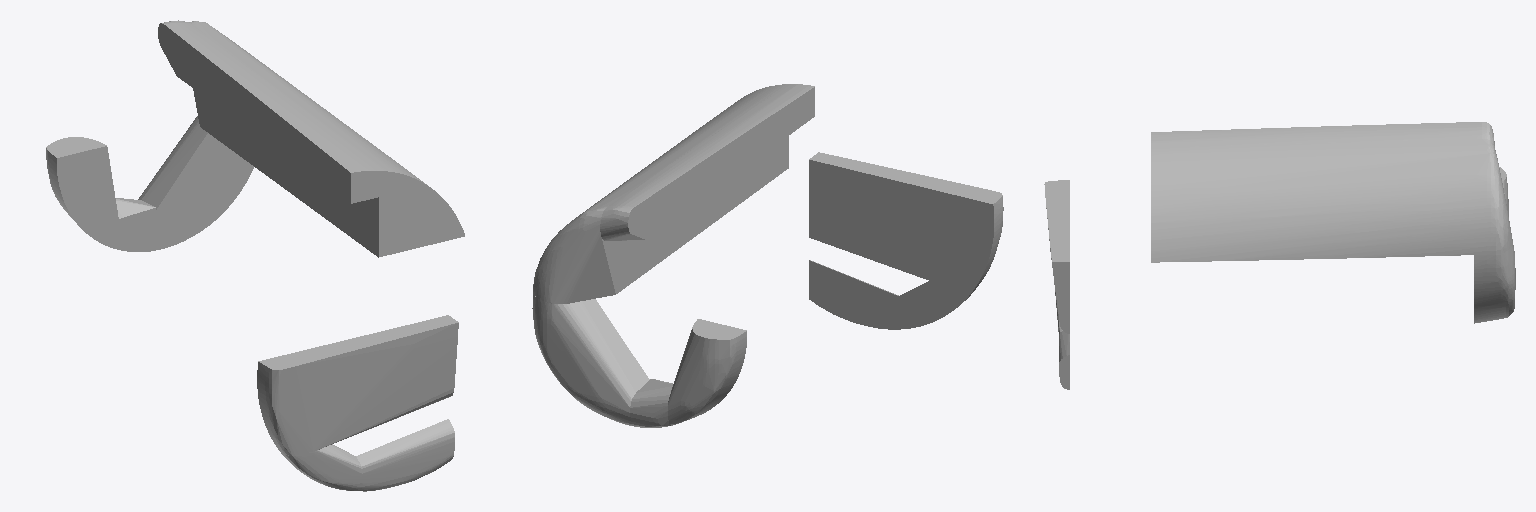
URDF robot description (root):
<robot name="root">
  <link name="link_coacd_convex_piece_0">
    <inertial>
      <origin xyz="0 0 0" rpy="0 0 0"/>
      <inertia ixx="3.28E-08" ixy="1.67E-10" ixz="-2.66E-11" iyy="1.46E-08" iyz="-2.56E-09" izz="3.35E-08"/>
    </inertial>
    <visual>
      <origin xyz="0 0 0" rpy="0 0 0"/>
      <geometry>
        <mesh filename="coacd_convex_piece_0.obj" scale="1.0000E+00 1.0000E+00 1.0000E+00"/>
      </geometry>
      <material name="">
        <color rgba="7.50E-01 7.50E-01 7.50E-01 1"/>
      </material>
    </visual>
    <collision>
      <origin xyz="0 0 0" rpy="0 0 0"/>
      <geometry>
        <mesh filename="coacd_convex_piece_0.obj" scale="1.0000E+00 1.0000E+00 1.0000E+00"/>
      </geometry>
    </collision>
  </link>
  <link name="link_coacd_convex_piece_1">
    <inertial>
      <origin xyz="0 0 0" rpy="0 0 0"/>
      <inertia ixx="1.09E-07" ixy="-5.13E-11" ixz="-4.68E-11" iyy="3.27E-08" iyz="-6.34E-10" izz="1.10E-07"/>
    </inertial>
    <visual>
      <origin xyz="0 0 0" rpy="0 0 0"/>
      <geometry>
        <mesh filename="coacd_convex_piece_1.obj" scale="1.0000E+00 1.0000E+00 1.0000E+00"/>
      </geometry>
      <material name="">
        <color rgba="7.50E-01 7.50E-01 7.50E-01 1"/>
      </material>
    </visual>
    <collision>
      <origin xyz="0 0 0" rpy="0 0 0"/>
      <geometry>
        <mesh filename="coacd_convex_piece_1.obj" scale="1.0000E+00 1.0000E+00 1.0000E+00"/>
      </geometry>
    </collision>
  </link>
  <joint name="link_coacd_convex_piece_1_joint" type="fixed">
    <origin xyz="0 0 0" rpy="0 0 0"/>
    <parent link="link_coacd_convex_piece_0"/>
    <child link="link_coacd_convex_piece_1"/>
  </joint>
  <link name="link_coacd_convex_piece_2">
    <inertial>
      <origin xyz="0 0 0" rpy="0 0 0"/>
      <inertia ixx="5.48E-09" ixy="2.34E-09" ixz="3.91E-10" iyy="1.36E-09" iyz="-9.68E-10" izz="6.28E-09"/>
    </inertial>
    <visual>
      <origin xyz="0 0 0" rpy="0 0 0"/>
      <geometry>
        <mesh filename="coacd_convex_piece_2.obj" scale="1.0000E+00 1.0000E+00 1.0000E+00"/>
      </geometry>
      <material name="">
        <color rgba="7.50E-01 7.50E-01 7.50E-01 1"/>
      </material>
    </visual>
    <collision>
      <origin xyz="0 0 0" rpy="0 0 0"/>
      <geometry>
        <mesh filename="coacd_convex_piece_2.obj" scale="1.0000E+00 1.0000E+00 1.0000E+00"/>
      </geometry>
    </collision>
  </link>
  <joint name="link_coacd_convex_piece_2_joint" type="fixed">
    <origin xyz="0 0 0" rpy="0 0 0"/>
    <parent link="link_coacd_convex_piece_1"/>
    <child link="link_coacd_convex_piece_2"/>
  </joint>
  <link name="link_coacd_convex_piece_3">
    <inertial>
      <origin xyz="0 0 0" rpy="0 0 0"/>
      <inertia ixx="1.14E-08" ixy="-2.55E-09" ixz="3.99E-11" iyy="9.55E-10" iyz="6.55E-10" izz="1.19E-08"/>
    </inertial>
    <visual>
      <origin xyz="0 0 0" rpy="0 0 0"/>
      <geometry>
        <mesh filename="coacd_convex_piece_3.obj" scale="1.0000E+00 1.0000E+00 1.0000E+00"/>
      </geometry>
      <material name="">
        <color rgba="7.50E-01 7.50E-01 7.50E-01 1"/>
      </material>
    </visual>
    <collision>
      <origin xyz="0 0 0" rpy="0 0 0"/>
      <geometry>
        <mesh filename="coacd_convex_piece_3.obj" scale="1.0000E+00 1.0000E+00 1.0000E+00"/>
      </geometry>
    </collision>
  </link>
  <joint name="link_coacd_convex_piece_3_joint" type="fixed">
    <origin xyz="0 0 0" rpy="0 0 0"/>
    <parent link="link_coacd_convex_piece_2"/>
    <child link="link_coacd_convex_piece_3"/>
  </joint>
  <link name="link_coacd_convex_piece_4">
    <inertial>
      <origin xyz="0 0 0" rpy="0 0 0"/>
      <inertia ixx="2.64E-08" ixy="-4.51E-09" ixz="-7.08E-09" iyy="1.60E-08" iyz="-6.15E-09" izz="2.42E-08"/>
    </inertial>
    <visual>
      <origin xyz="0 0 0" rpy="0 0 0"/>
      <geometry>
        <mesh filename="coacd_convex_piece_4.obj" scale="1.0000E+00 1.0000E+00 1.0000E+00"/>
      </geometry>
      <material name="">
        <color rgba="7.50E-01 7.50E-01 7.50E-01 1"/>
      </material>
    </visual>
    <collision>
      <origin xyz="0 0 0" rpy="0 0 0"/>
      <geometry>
        <mesh filename="coacd_convex_piece_4.obj" scale="1.0000E+00 1.0000E+00 1.0000E+00"/>
      </geometry>
    </collision>
  </link>
  <joint name="link_coacd_convex_piece_4_joint" type="fixed">
    <origin xyz="0 0 0" rpy="0 0 0"/>
    <parent link="link_coacd_convex_piece_3"/>
    <child link="link_coacd_convex_piece_4"/>
  </joint>
  <link name="link_coacd_convex_piece_5">
    <inertial>
      <origin xyz="0 0 0" rpy="0 0 0"/>
      <inertia ixx="1.91E-08" ixy="3.95E-09" ixz="5.93E-09" iyy="1.28E-08" iyz="-4.44E-09" izz="1.94E-08"/>
    </inertial>
    <visual>
      <origin xyz="0 0 0" rpy="0 0 0"/>
      <geometry>
        <mesh filename="coacd_convex_piece_5.obj" scale="1.0000E+00 1.0000E+00 1.0000E+00"/>
      </geometry>
      <material name="">
        <color rgba="7.50E-01 7.50E-01 7.50E-01 1"/>
      </material>
    </visual>
    <collision>
      <origin xyz="0 0 0" rpy="0 0 0"/>
      <geometry>
        <mesh filename="coacd_convex_piece_5.obj" scale="1.0000E+00 1.0000E+00 1.0000E+00"/>
      </geometry>
    </collision>
  </link>
  <joint name="link_coacd_convex_piece_5_joint" type="fixed">
    <origin xyz="0 0 0" rpy="0 0 0"/>
    <parent link="link_coacd_convex_piece_4"/>
    <child link="link_coacd_convex_piece_5"/>
  </joint>
  <link name="link_coacd_convex_piece_6">
    <inertial>
      <origin xyz="0 0 0" rpy="0 0 0"/>
      <inertia ixx="7.51E-08" ixy="3.89E-10" ixz="-1.00E-10" iyy="4.21E-08" iyz="-3.91E-09" izz="8.95E-08"/>
    </inertial>
    <visual>
      <origin xyz="0 0 0" rpy="0 0 0"/>
      <geometry>
        <mesh filename="coacd_convex_piece_6.obj" scale="1.0000E+00 1.0000E+00 1.0000E+00"/>
      </geometry>
      <material name="">
        <color rgba="7.50E-01 7.50E-01 7.50E-01 1"/>
      </material>
    </visual>
    <collision>
      <origin xyz="0 0 0" rpy="0 0 0"/>
      <geometry>
        <mesh filename="coacd_convex_piece_6.obj" scale="1.0000E+00 1.0000E+00 1.0000E+00"/>
      </geometry>
    </collision>
  </link>
  <joint name="link_coacd_convex_piece_6_joint" type="fixed">
    <origin xyz="0 0 0" rpy="0 0 0"/>
    <parent link="link_coacd_convex_piece_5"/>
    <child link="link_coacd_convex_piece_6"/>
  </joint>
  <link name="link_coacd_convex_piece_7">
    <inertial>
      <origin xyz="0 0 0" rpy="0 0 0"/>
      <inertia ixx="1.23E-09" ixy="-3.35E-10" ixz="-1.60E-10" iyy="3.60E-10" iyz="-4.96E-10" izz="1.11E-09"/>
    </inertial>
    <visual>
      <origin xyz="0 0 0" rpy="0 0 0"/>
      <geometry>
        <mesh filename="coacd_convex_piece_7.obj" scale="1.0000E+00 1.0000E+00 1.0000E+00"/>
      </geometry>
      <material name="">
        <color rgba="7.50E-01 7.50E-01 7.50E-01 1"/>
      </material>
    </visual>
    <collision>
      <origin xyz="0 0 0" rpy="0 0 0"/>
      <geometry>
        <mesh filename="coacd_convex_piece_7.obj" scale="1.0000E+00 1.0000E+00 1.0000E+00"/>
      </geometry>
    </collision>
  </link>
  <joint name="link_coacd_convex_piece_7_joint" type="fixed">
    <origin xyz="0 0 0" rpy="0 0 0"/>
    <parent link="link_coacd_convex_piece_6"/>
    <child link="link_coacd_convex_piece_7"/>
  </joint>
  <link name="link_coacd_convex_piece_8">
    <inertial>
      <origin xyz="0 0 0" rpy="0 0 0"/>
      <inertia ixx="6.65E-09" ixy="-2.06E-09" ixz="3.61E-10" iyy="1.04E-09" iyz="1.11E-09" izz="7.26E-09"/>
    </inertial>
    <visual>
      <origin xyz="0 0 0" rpy="0 0 0"/>
      <geometry>
        <mesh filename="coacd_convex_piece_8.obj" scale="1.0000E+00 1.0000E+00 1.0000E+00"/>
      </geometry>
      <material name="">
        <color rgba="7.50E-01 7.50E-01 7.50E-01 1"/>
      </material>
    </visual>
    <collision>
      <origin xyz="0 0 0" rpy="0 0 0"/>
      <geometry>
        <mesh filename="coacd_convex_piece_8.obj" scale="1.0000E+00 1.0000E+00 1.0000E+00"/>
      </geometry>
    </collision>
  </link>
  <joint name="link_coacd_convex_piece_8_joint" type="fixed">
    <origin xyz="0 0 0" rpy="0 0 0"/>
    <parent link="link_coacd_convex_piece_7"/>
    <child link="link_coacd_convex_piece_8"/>
  </joint>
  <link name="link_coacd_convex_piece_9">
    <inertial>
      <origin xyz="0 0 0" rpy="0 0 0"/>
      <inertia ixx="2.06E-09" ixy="2.39E-10" ixz="-5.11E-11" iyy="1.27E-10" iyz="4.21E-10" izz="2.00E-09"/>
    </inertial>
    <visual>
      <origin xyz="0 0 0" rpy="0 0 0"/>
      <geometry>
        <mesh filename="coacd_convex_piece_9.obj" scale="1.0000E+00 1.0000E+00 1.0000E+00"/>
      </geometry>
      <material name="">
        <color rgba="7.50E-01 7.50E-01 7.50E-01 1"/>
      </material>
    </visual>
    <collision>
      <origin xyz="0 0 0" rpy="0 0 0"/>
      <geometry>
        <mesh filename="coacd_convex_piece_9.obj" scale="1.0000E+00 1.0000E+00 1.0000E+00"/>
      </geometry>
    </collision>
  </link>
  <joint name="link_coacd_convex_piece_9_joint" type="fixed">
    <origin xyz="0 0 0" rpy="0 0 0"/>
    <parent link="link_coacd_convex_piece_8"/>
    <child link="link_coacd_convex_piece_9"/>
  </joint>
  <link name="link_coacd_convex_piece_10">
    <inertial>
      <origin xyz="0 0 0" rpy="0 0 0"/>
      <inertia ixx="7.21E-09" ixy="1.18E-09" ixz="-5.00E-10" iyy="1.55E-09" iyz="2.66E-09" izz="6.33E-09"/>
    </inertial>
    <visual>
      <origin xyz="0 0 0" rpy="0 0 0"/>
      <geometry>
        <mesh filename="coacd_convex_piece_10.obj" scale="1.0000E+00 1.0000E+00 1.0000E+00"/>
      </geometry>
      <material name="">
        <color rgba="7.50E-01 7.50E-01 7.50E-01 1"/>
      </material>
    </visual>
    <collision>
      <origin xyz="0 0 0" rpy="0 0 0"/>
      <geometry>
        <mesh filename="coacd_convex_piece_10.obj" scale="1.0000E+00 1.0000E+00 1.0000E+00"/>
      </geometry>
    </collision>
  </link>
  <joint name="link_coacd_convex_piece_10_joint" type="fixed">
    <origin xyz="0 0 0" rpy="0 0 0"/>
    <parent link="link_coacd_convex_piece_9"/>
    <child link="link_coacd_convex_piece_10"/>
  </joint>
  <link name="link_coacd_convex_piece_11">
    <inertial>
      <origin xyz="0 0 0" rpy="0 0 0"/>
      <inertia ixx="7.55E-09" ixy="2.20E-09" ixz="-4.10E-10" iyy="1.15E-09" iyz="1.34E-09" izz="8.14E-09"/>
    </inertial>
    <visual>
      <origin xyz="0 0 0" rpy="0 0 0"/>
      <geometry>
        <mesh filename="coacd_convex_piece_11.obj" scale="1.0000E+00 1.0000E+00 1.0000E+00"/>
      </geometry>
      <material name="">
        <color rgba="7.50E-01 7.50E-01 7.50E-01 1"/>
      </material>
    </visual>
    <collision>
      <origin xyz="0 0 0" rpy="0 0 0"/>
      <geometry>
        <mesh filename="coacd_convex_piece_11.obj" scale="1.0000E+00 1.0000E+00 1.0000E+00"/>
      </geometry>
    </collision>
  </link>
  <joint name="link_coacd_convex_piece_11_joint" type="fixed">
    <origin xyz="0 0 0" rpy="0 0 0"/>
    <parent link="link_coacd_convex_piece_10"/>
    <child link="link_coacd_convex_piece_11"/>
  </joint>
  <link name="link_coacd_convex_piece_12">
    <inertial>
      <origin xyz="0 0 0" rpy="0 0 0"/>
      <inertia ixx="7.11E-09" ixy="-1.34E-09" ixz="5.44E-10" iyy="1.52E-09" iyz="2.55E-09" izz="6.37E-09"/>
    </inertial>
    <visual>
      <origin xyz="0 0 0" rpy="0 0 0"/>
      <geometry>
        <mesh filename="coacd_convex_piece_12.obj" scale="1.0000E+00 1.0000E+00 1.0000E+00"/>
      </geometry>
      <material name="">
        <color rgba="7.50E-01 7.50E-01 7.50E-01 1"/>
      </material>
    </visual>
    <collision>
      <origin xyz="0 0 0" rpy="0 0 0"/>
      <geometry>
        <mesh filename="coacd_convex_piece_12.obj" scale="1.0000E+00 1.0000E+00 1.0000E+00"/>
      </geometry>
    </collision>
  </link>
  <joint name="link_coacd_convex_piece_12_joint" type="fixed">
    <origin xyz="0 0 0" rpy="0 0 0"/>
    <parent link="link_coacd_convex_piece_11"/>
    <child link="link_coacd_convex_piece_12"/>
  </joint>
  <link name="link_coacd_convex_piece_13">
    <inertial>
      <origin xyz="0 0 0" rpy="0 0 0"/>
      <inertia ixx="5.13E-09" ixy="1.74E-09" ixz="5.00E-12" iyy="6.74E-10" iyz="1.89E-11" izz="5.70E-09"/>
    </inertial>
    <visual>
      <origin xyz="0 0 0" rpy="0 0 0"/>
      <geometry>
        <mesh filename="coacd_convex_piece_13.obj" scale="1.0000E+00 1.0000E+00 1.0000E+00"/>
      </geometry>
      <material name="">
        <color rgba="7.50E-01 7.50E-01 7.50E-01 1"/>
      </material>
    </visual>
    <collision>
      <origin xyz="0 0 0" rpy="0 0 0"/>
      <geometry>
        <mesh filename="coacd_convex_piece_13.obj" scale="1.0000E+00 1.0000E+00 1.0000E+00"/>
      </geometry>
    </collision>
  </link>
  <joint name="link_coacd_convex_piece_13_joint" type="fixed">
    <origin xyz="0 0 0" rpy="0 0 0"/>
    <parent link="link_coacd_convex_piece_12"/>
    <child link="link_coacd_convex_piece_13"/>
  </joint>
  <link name="link_coacd_convex_piece_14">
    <inertial>
      <origin xyz="0 0 0" rpy="0 0 0"/>
      <inertia ixx="1.13E-08" ixy="-2.39E-09" ixz="-3.23E-10" iyy="1.51E-09" iyz="-1.52E-09" izz="1.22E-08"/>
    </inertial>
    <visual>
      <origin xyz="0 0 0" rpy="0 0 0"/>
      <geometry>
        <mesh filename="coacd_convex_piece_14.obj" scale="1.0000E+00 1.0000E+00 1.0000E+00"/>
      </geometry>
      <material name="">
        <color rgba="7.50E-01 7.50E-01 7.50E-01 1"/>
      </material>
    </visual>
    <collision>
      <origin xyz="0 0 0" rpy="0 0 0"/>
      <geometry>
        <mesh filename="coacd_convex_piece_14.obj" scale="1.0000E+00 1.0000E+00 1.0000E+00"/>
      </geometry>
    </collision>
  </link>
  <joint name="link_coacd_convex_piece_14_joint" type="fixed">
    <origin xyz="0 0 0" rpy="0 0 0"/>
    <parent link="link_coacd_convex_piece_13"/>
    <child link="link_coacd_convex_piece_14"/>
  </joint>
  <link name="link_coacd_convex_piece_15">
    <inertial>
      <origin xyz="0 0 0" rpy="0 0 0"/>
      <inertia ixx="5.85E-09" ixy="-2.72E-10" ixz="-5.93E-10" iyy="2.37E-09" iyz="-1.11E-09" izz="3.86E-09"/>
    </inertial>
    <visual>
      <origin xyz="0 0 0" rpy="0 0 0"/>
      <geometry>
        <mesh filename="coacd_convex_piece_15.obj" scale="1.0000E+00 1.0000E+00 1.0000E+00"/>
      </geometry>
      <material name="">
        <color rgba="7.50E-01 7.50E-01 7.50E-01 1"/>
      </material>
    </visual>
    <collision>
      <origin xyz="0 0 0" rpy="0 0 0"/>
      <geometry>
        <mesh filename="coacd_convex_piece_15.obj" scale="1.0000E+00 1.0000E+00 1.0000E+00"/>
      </geometry>
    </collision>
  </link>
  <joint name="link_coacd_convex_piece_15_joint" type="fixed">
    <origin xyz="0 0 0" rpy="0 0 0"/>
    <parent link="link_coacd_convex_piece_14"/>
    <child link="link_coacd_convex_piece_15"/>
  </joint>
  <link name="link_coacd_convex_piece_16">
    <inertial>
      <origin xyz="0 0 0" rpy="0 0 0"/>
      <inertia ixx="2.23E-08" ixy="1.02E-09" ixz="2.39E-09" iyy="1.16E-08" iyz="-4.72E-09" izz="1.25E-08"/>
    </inertial>
    <visual>
      <origin xyz="0 0 0" rpy="0 0 0"/>
      <geometry>
        <mesh filename="coacd_convex_piece_16.obj" scale="1.0000E+00 1.0000E+00 1.0000E+00"/>
      </geometry>
      <material name="">
        <color rgba="7.50E-01 7.50E-01 7.50E-01 1"/>
      </material>
    </visual>
    <collision>
      <origin xyz="0 0 0" rpy="0 0 0"/>
      <geometry>
        <mesh filename="coacd_convex_piece_16.obj" scale="1.0000E+00 1.0000E+00 1.0000E+00"/>
      </geometry>
    </collision>
  </link>
  <joint name="link_coacd_convex_piece_16_joint" type="fixed">
    <origin xyz="0 0 0" rpy="0 0 0"/>
    <parent link="link_coacd_convex_piece_15"/>
    <child link="link_coacd_convex_piece_16"/>
  </joint>
  <link name="link_coacd_convex_piece_17">
    <inertial>
      <origin xyz="0 0 0" rpy="0 0 0"/>
      <inertia ixx="6.87E-09" ixy="-2.85E-10" ixz="-6.13E-10" iyy="3.83E-09" iyz="-1.86E-09" izz="3.28E-09"/>
    </inertial>
    <visual>
      <origin xyz="0 0 0" rpy="0 0 0"/>
      <geometry>
        <mesh filename="coacd_convex_piece_17.obj" scale="1.0000E+00 1.0000E+00 1.0000E+00"/>
      </geometry>
      <material name="">
        <color rgba="7.50E-01 7.50E-01 7.50E-01 1"/>
      </material>
    </visual>
    <collision>
      <origin xyz="0 0 0" rpy="0 0 0"/>
      <geometry>
        <mesh filename="coacd_convex_piece_17.obj" scale="1.0000E+00 1.0000E+00 1.0000E+00"/>
      </geometry>
    </collision>
  </link>
  <joint name="link_coacd_convex_piece_17_joint" type="fixed">
    <origin xyz="0 0 0" rpy="0 0 0"/>
    <parent link="link_coacd_convex_piece_16"/>
    <child link="link_coacd_convex_piece_17"/>
  </joint>
  <link name="link_coacd_convex_piece_18">
    <inertial>
      <origin xyz="0 0 0" rpy="0 0 0"/>
      <inertia ixx="2.86E-09" ixy="2.56E-10" ixz="1.45E-10" iyy="7.82E-10" iyz="-1.28E-09" izz="2.16E-09"/>
    </inertial>
    <visual>
      <origin xyz="0 0 0" rpy="0 0 0"/>
      <geometry>
        <mesh filename="coacd_convex_piece_18.obj" scale="1.0000E+00 1.0000E+00 1.0000E+00"/>
      </geometry>
      <material name="">
        <color rgba="7.50E-01 7.50E-01 7.50E-01 1"/>
      </material>
    </visual>
    <collision>
      <origin xyz="0 0 0" rpy="0 0 0"/>
      <geometry>
        <mesh filename="coacd_convex_piece_18.obj" scale="1.0000E+00 1.0000E+00 1.0000E+00"/>
      </geometry>
    </collision>
  </link>
  <joint name="link_coacd_convex_piece_18_joint" type="fixed">
    <origin xyz="0 0 0" rpy="0 0 0"/>
    <parent link="link_coacd_convex_piece_17"/>
    <child link="link_coacd_convex_piece_18"/>
  </joint>
  <link name="link_coacd_convex_piece_19">
    <inertial>
      <origin xyz="0 0 0" rpy="0 0 0"/>
      <inertia ixx="1.68E-09" ixy="8.11E-11" ixz="4.28E-11" iyy="4.33E-10" iyz="-7.34E-10" izz="1.30E-09"/>
    </inertial>
    <visual>
      <origin xyz="0 0 0" rpy="0 0 0"/>
      <geometry>
        <mesh filename="coacd_convex_piece_19.obj" scale="1.0000E+00 1.0000E+00 1.0000E+00"/>
      </geometry>
      <material name="">
        <color rgba="7.50E-01 7.50E-01 7.50E-01 1"/>
      </material>
    </visual>
    <collision>
      <origin xyz="0 0 0" rpy="0 0 0"/>
      <geometry>
        <mesh filename="coacd_convex_piece_19.obj" scale="1.0000E+00 1.0000E+00 1.0000E+00"/>
      </geometry>
    </collision>
  </link>
  <joint name="link_coacd_convex_piece_19_joint" type="fixed">
    <origin xyz="0 0 0" rpy="0 0 0"/>
    <parent link="link_coacd_convex_piece_18"/>
    <child link="link_coacd_convex_piece_19"/>
  </joint>
</robot>

--- What the picture shows (computed from the rendered views, not written in the file) ---
3 views of the same robot in one strip: view 1: azimuth 30°, elevation 25°; view 2: azimuth 150°, elevation 25°; view 3: azimuth 270°, elevation 25° (orthographic).
Robot: root — 20 links, 19 joints (19 fixed); root link link_coacd_convex_piece_0; default pose: every joint at zero.
Links seen in each view (by area): view 1: link_coacd_convex_piece_14, link_coacd_convex_piece_4, link_coacd_convex_piece_17, link_coacd_convex_piece_3, link_coacd_convex_piece_13, link_coacd_convex_piece_19, link_coacd_convex_piece_7, link_coacd_convex_piece_9; view 2: link_coacd_convex_piece_14, link_coacd_convex_piece_4, link_coacd_convex_piece_17, link_coacd_convex_piece_3, link_coacd_convex_piece_13, link_coacd_convex_piece_19, link_coacd_convex_piece_7, link_coacd_convex_piece_9; view 3: link_coacd_convex_piece_4, link_coacd_convex_piece_17, link_coacd_convex_piece_14, link_coacd_convex_piece_3, link_coacd_convex_piece_19.
Boxes of the visible links, box(x1,y1,x2,y2) form: link_coacd_convex_piece_14: box(257, 315, 458, 455); link_coacd_convex_piece_4: box(190, 21, 464, 257); link_coacd_convex_piece_17: box(158, 20, 378, 203); link_coacd_convex_piece_3: box(138, 116, 253, 249); link_coacd_convex_piece_13: box(46, 137, 118, 249); link_coacd_convex_piece_19: box(356, 419, 454, 491); link_coacd_convex_piece_7: box(281, 444, 361, 490); link_coacd_convex_piece_9: box(116, 198, 155, 251); link_coacd_convex_piece_14: box(809, 152, 1003, 290); link_coacd_convex_piece_4: box(533, 84, 788, 303); link_coacd_convex_piece_17: box(600, 84, 814, 240); link_coacd_convex_piece_3: box(532, 295, 649, 425); link_coacd_convex_piece_13: box(668, 319, 746, 425); link_coacd_convex_piece_19: box(809, 260, 898, 329); link_coacd_convex_piece_7: box(899, 281, 975, 329); link_coacd_convex_piece_9: box(630, 379, 672, 427); link_coacd_convex_piece_4: box(1151, 139, 1512, 262); link_coacd_convex_piece_17: box(1151, 122, 1494, 147); link_coacd_convex_piece_14: box(1044, 180, 1069, 333); link_coacd_convex_piece_3: box(1474, 245, 1515, 323); link_coacd_convex_piece_19: box(1059, 331, 1069, 389).
Bounding box of the posed robot: 0.064 × 0.1159 × 0.07 m (x, y, z).
8 mesh visuals loaded from 20 distinct referenced files (8 OBJ); not drawn: 12 (reference not matched to a file when rendering).